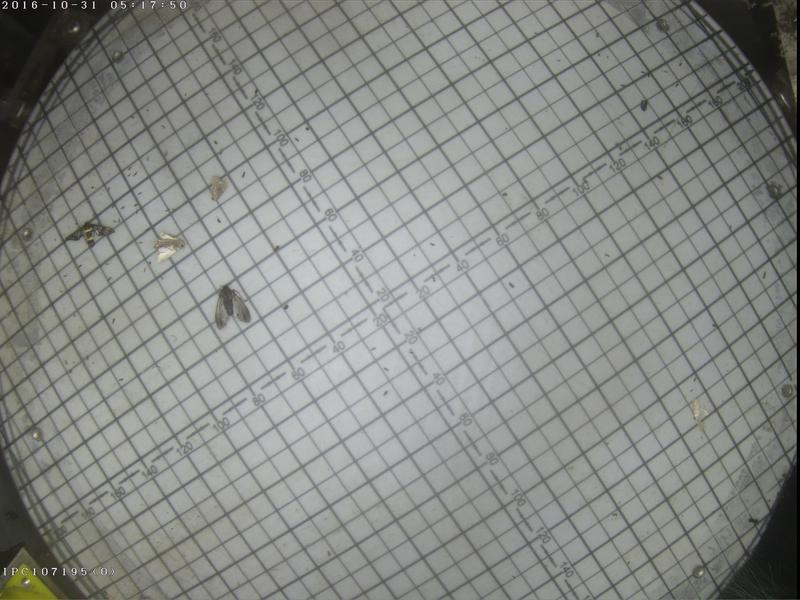Spodoptera exigua: (150, 229, 186, 259), (207, 175, 225, 202)
